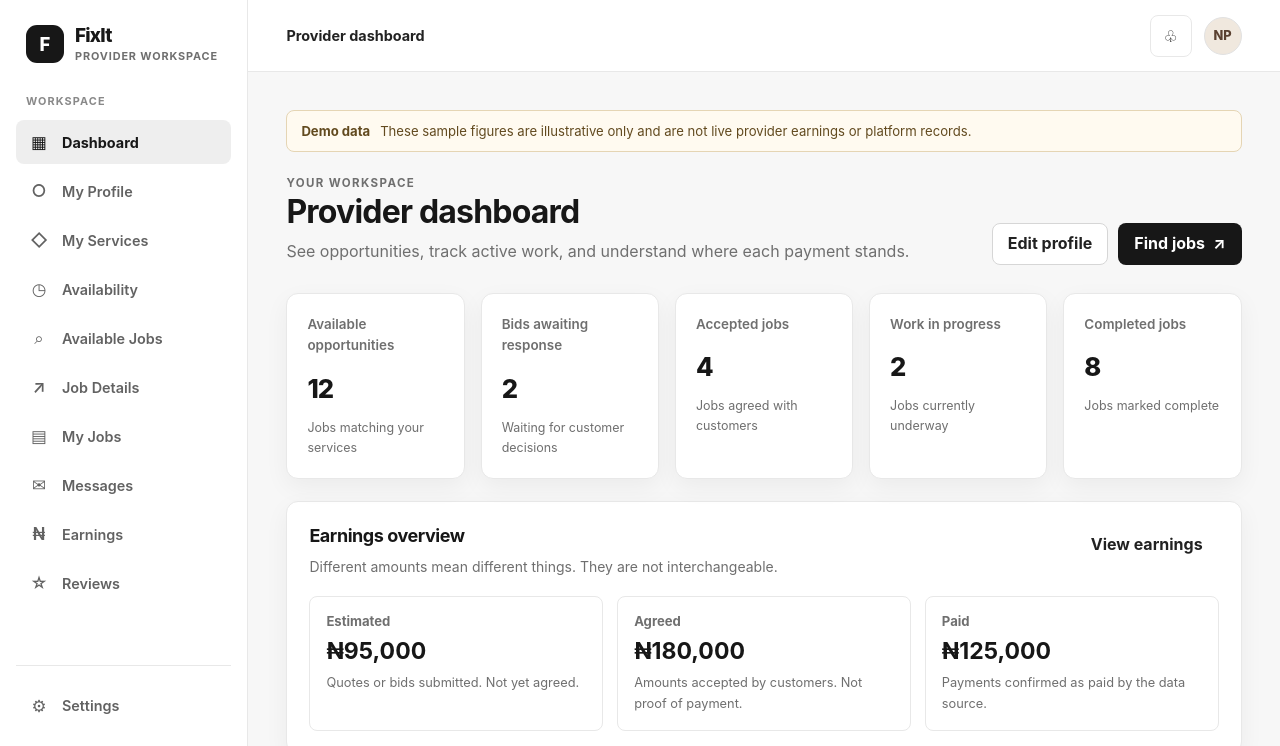
Test case: provider workspace navigation › opens the My Services screen and marks it active
Click the text "My Services". click: (105, 240)
box: [62,232,148,249]
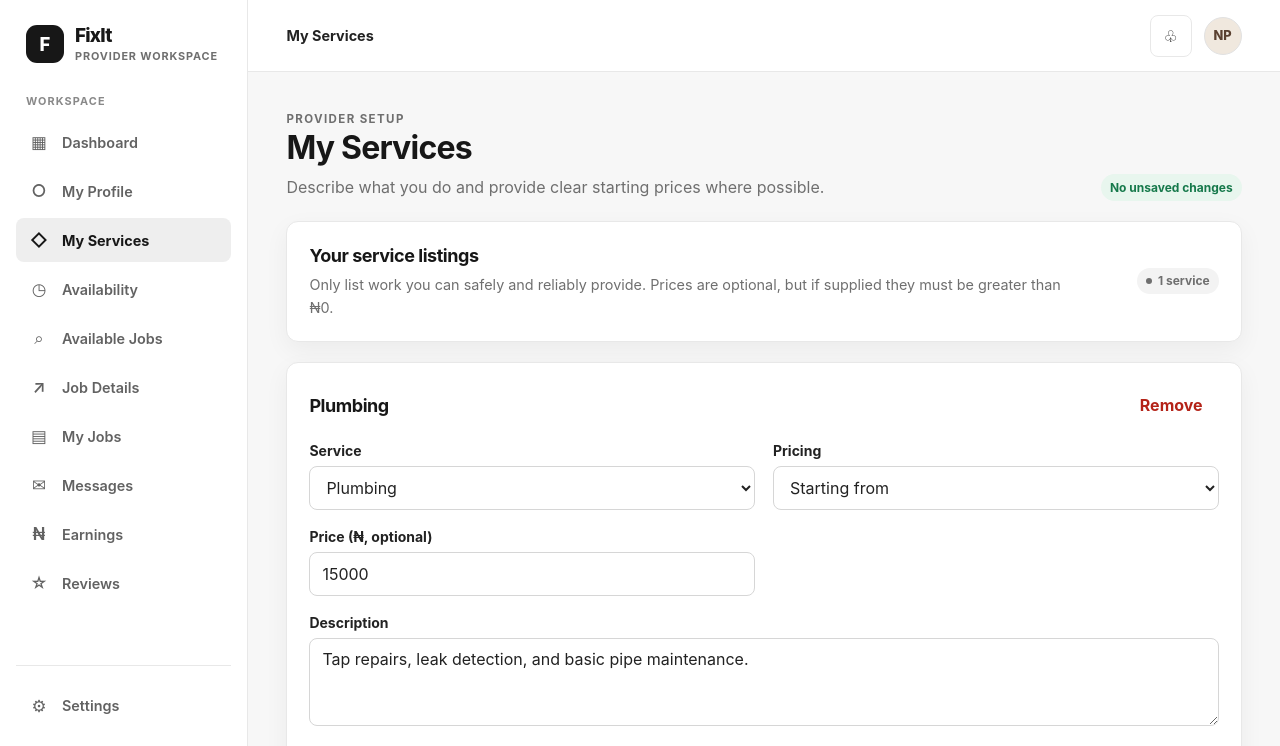
Expected: the heading "My Services" is shown, [286,128,472,167]
